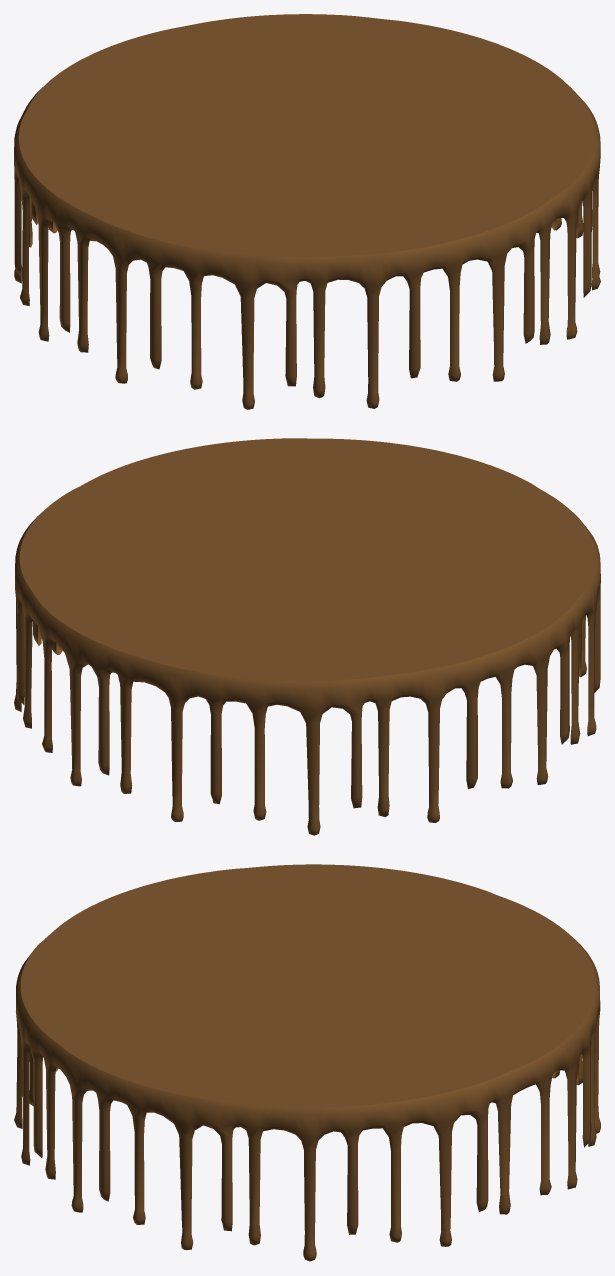
File: Cake_Lrg_itemsTop_icing-LongDrops.FBX
3 views of the same model, one above another, from view 1: azimuth 30°, elevation 25°; view 2: azimuth 150°, elevation 25°; view 3: azimuth 270°, elevation 25° (orthographic).
Visible parts, largest first — view 1: Cake_Lrg_itemsTop_icing-LongDrops; view 2: Cake_Lrg_itemsTop_icing-LongDrops; view 3: Cake_Lrg_itemsTop_icing-LongDrops.
Boxes of the visible parts, bbox=[...] form: Cake_Lrg_itemsTop_icing-LongDrops: bbox=[14, 14, 600, 409]; Cake_Lrg_itemsTop_icing-LongDrops: bbox=[14, 438, 600, 835]; Cake_Lrg_itemsTop_icing-LongDrops: bbox=[14, 864, 600, 1261].
Bounding box in the file's own units: 9750 × 2849 × 9775.
